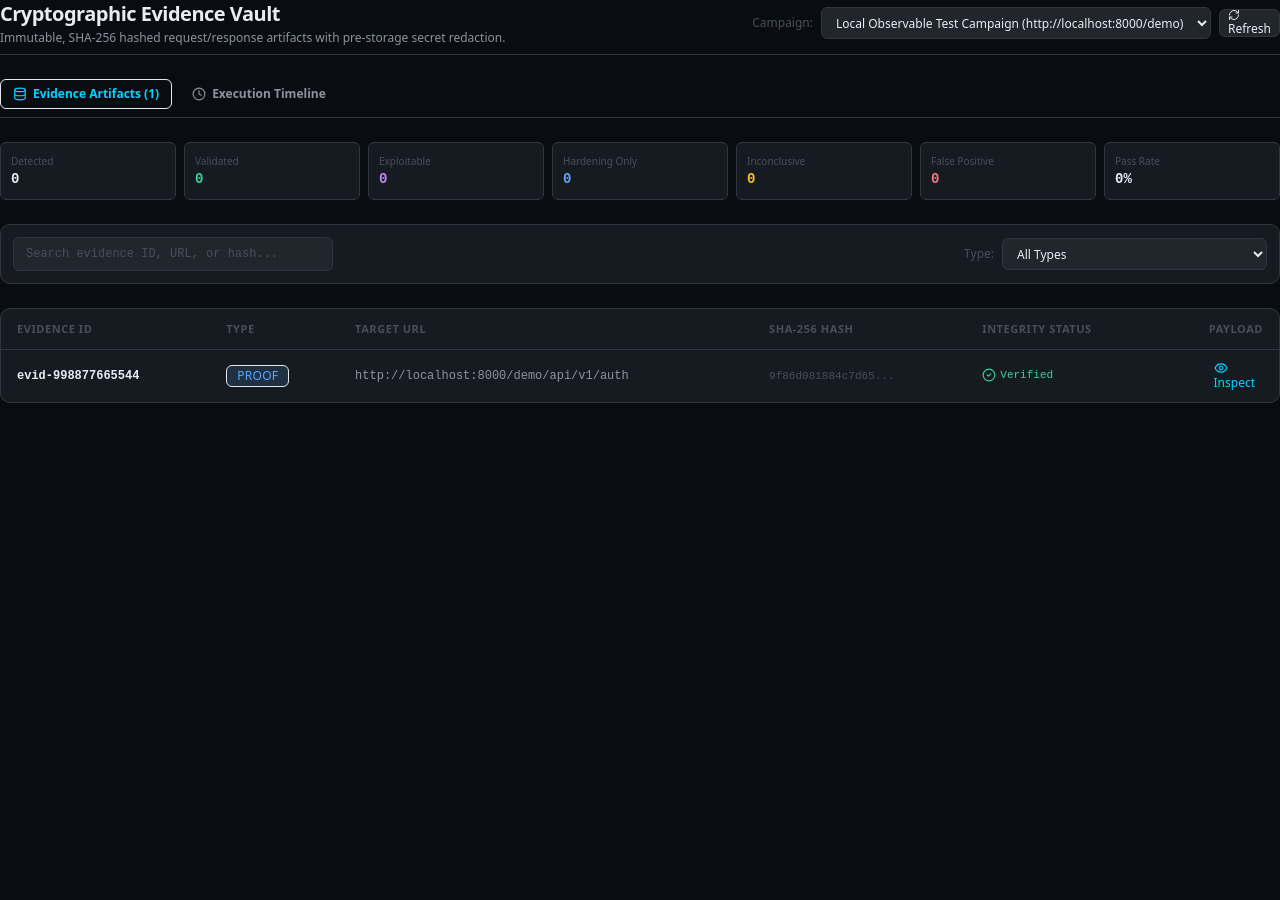
Test: Evidence Visibility & Execution Transparency Gate (Frontend) › displays full detail properties in modal including request and response payloads
The width and height of the screenshot is (1280, 900).
Expected: the text "evid-998877665544" is shown, [1,350,210,402]
Click the button with aria-label "view": (1234,376) [1206,362,1263,390]
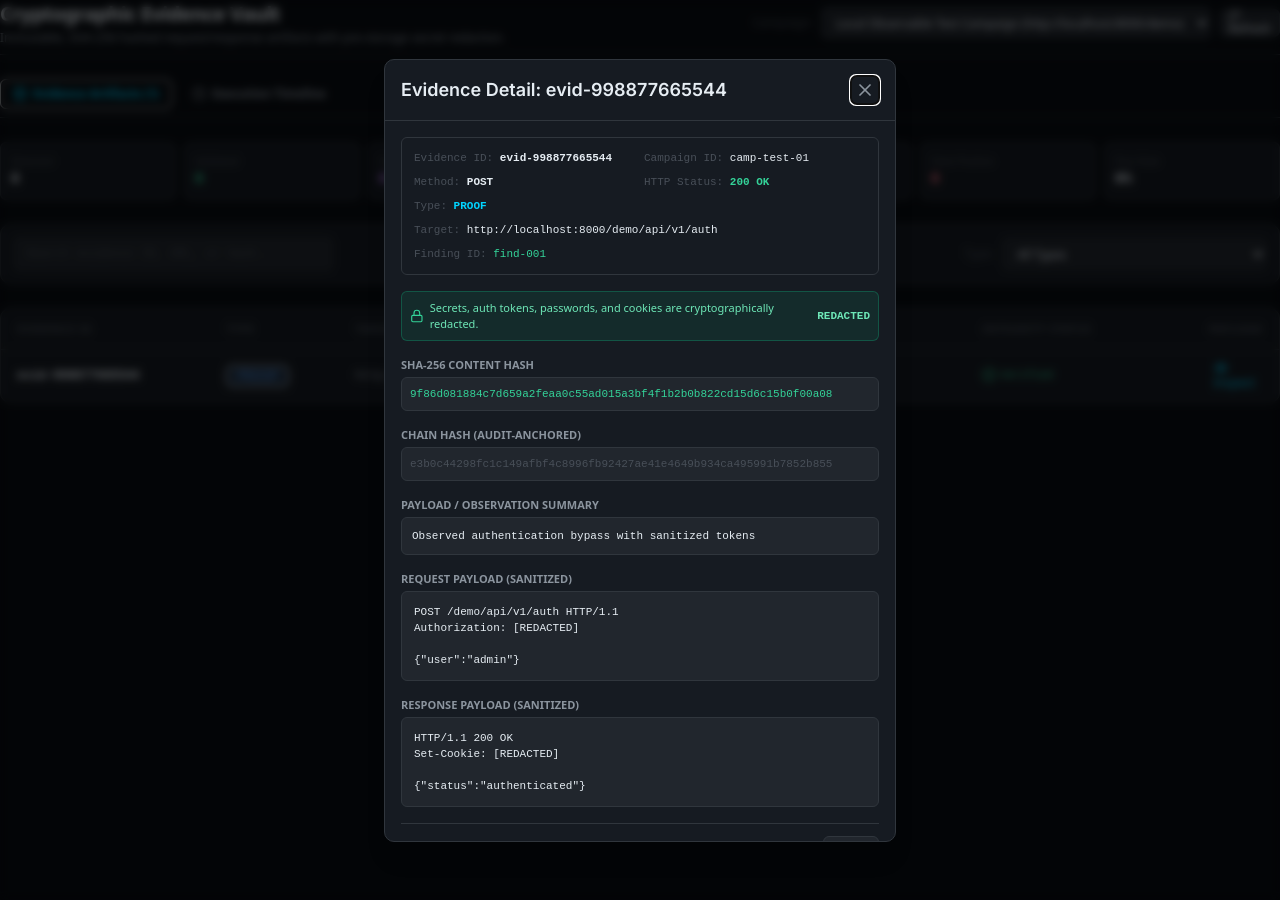
Expected: the text "POST /demo/api/v1/auth" is shown, [414,606,619,666]
Expected: the text "HTTP/1.1 200 OK" is shown, [414,732,586,792]
Expected: the text "find-001" is shown, [493,248,546,260]
Note: Close button
Click the button named "close": (865,90) [851,76,879,104]
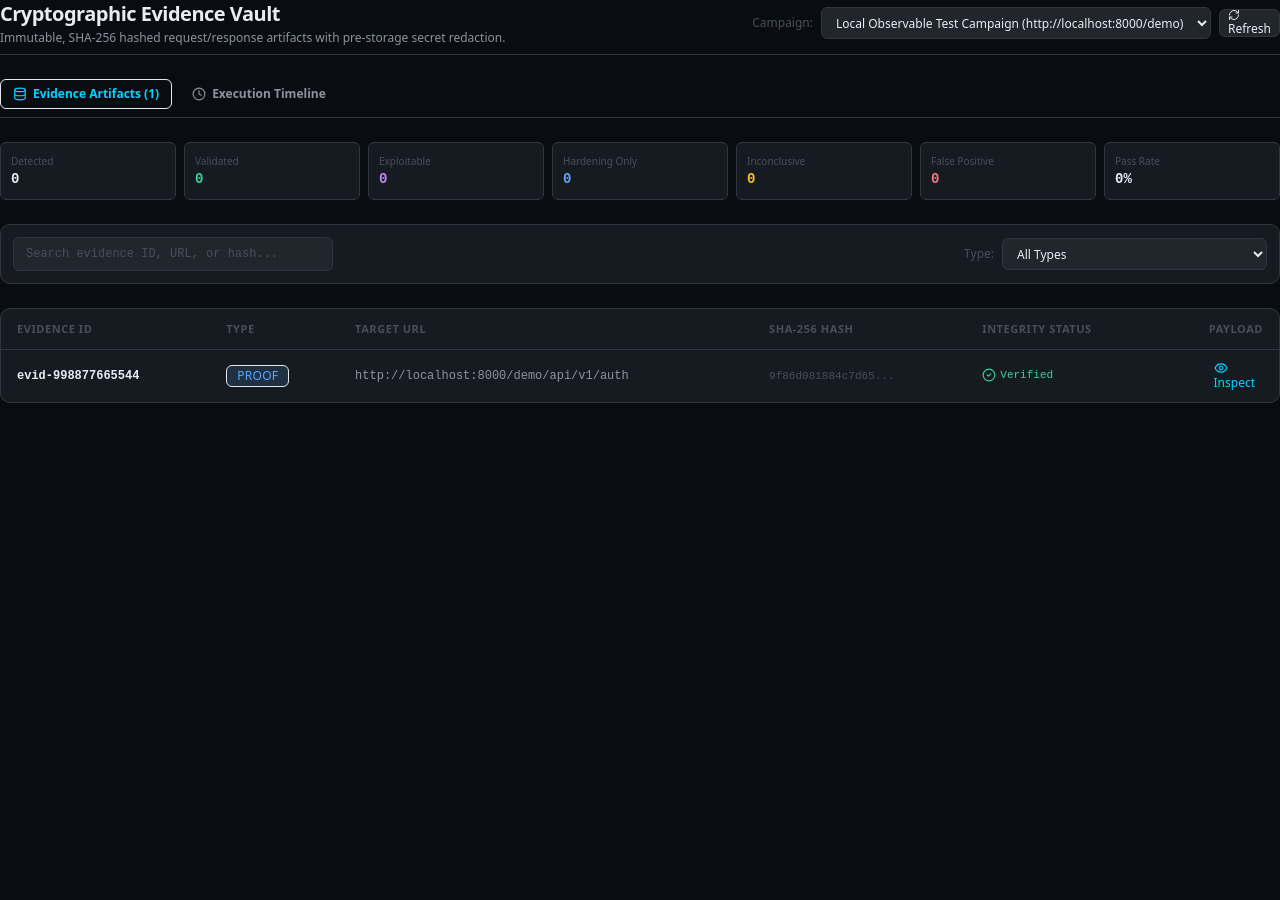
Expected: the text "Observed authentication bypass" is gone
